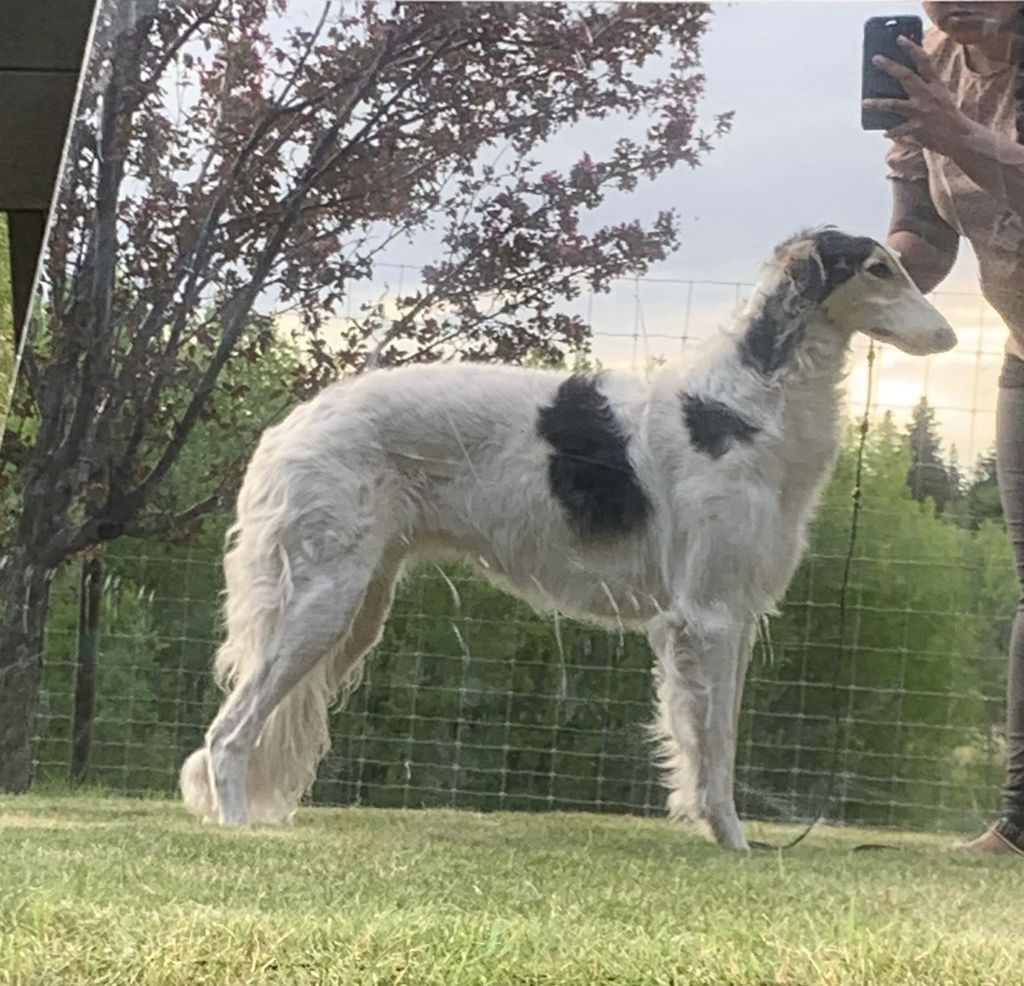borzoi: (145, 227, 972, 853)
